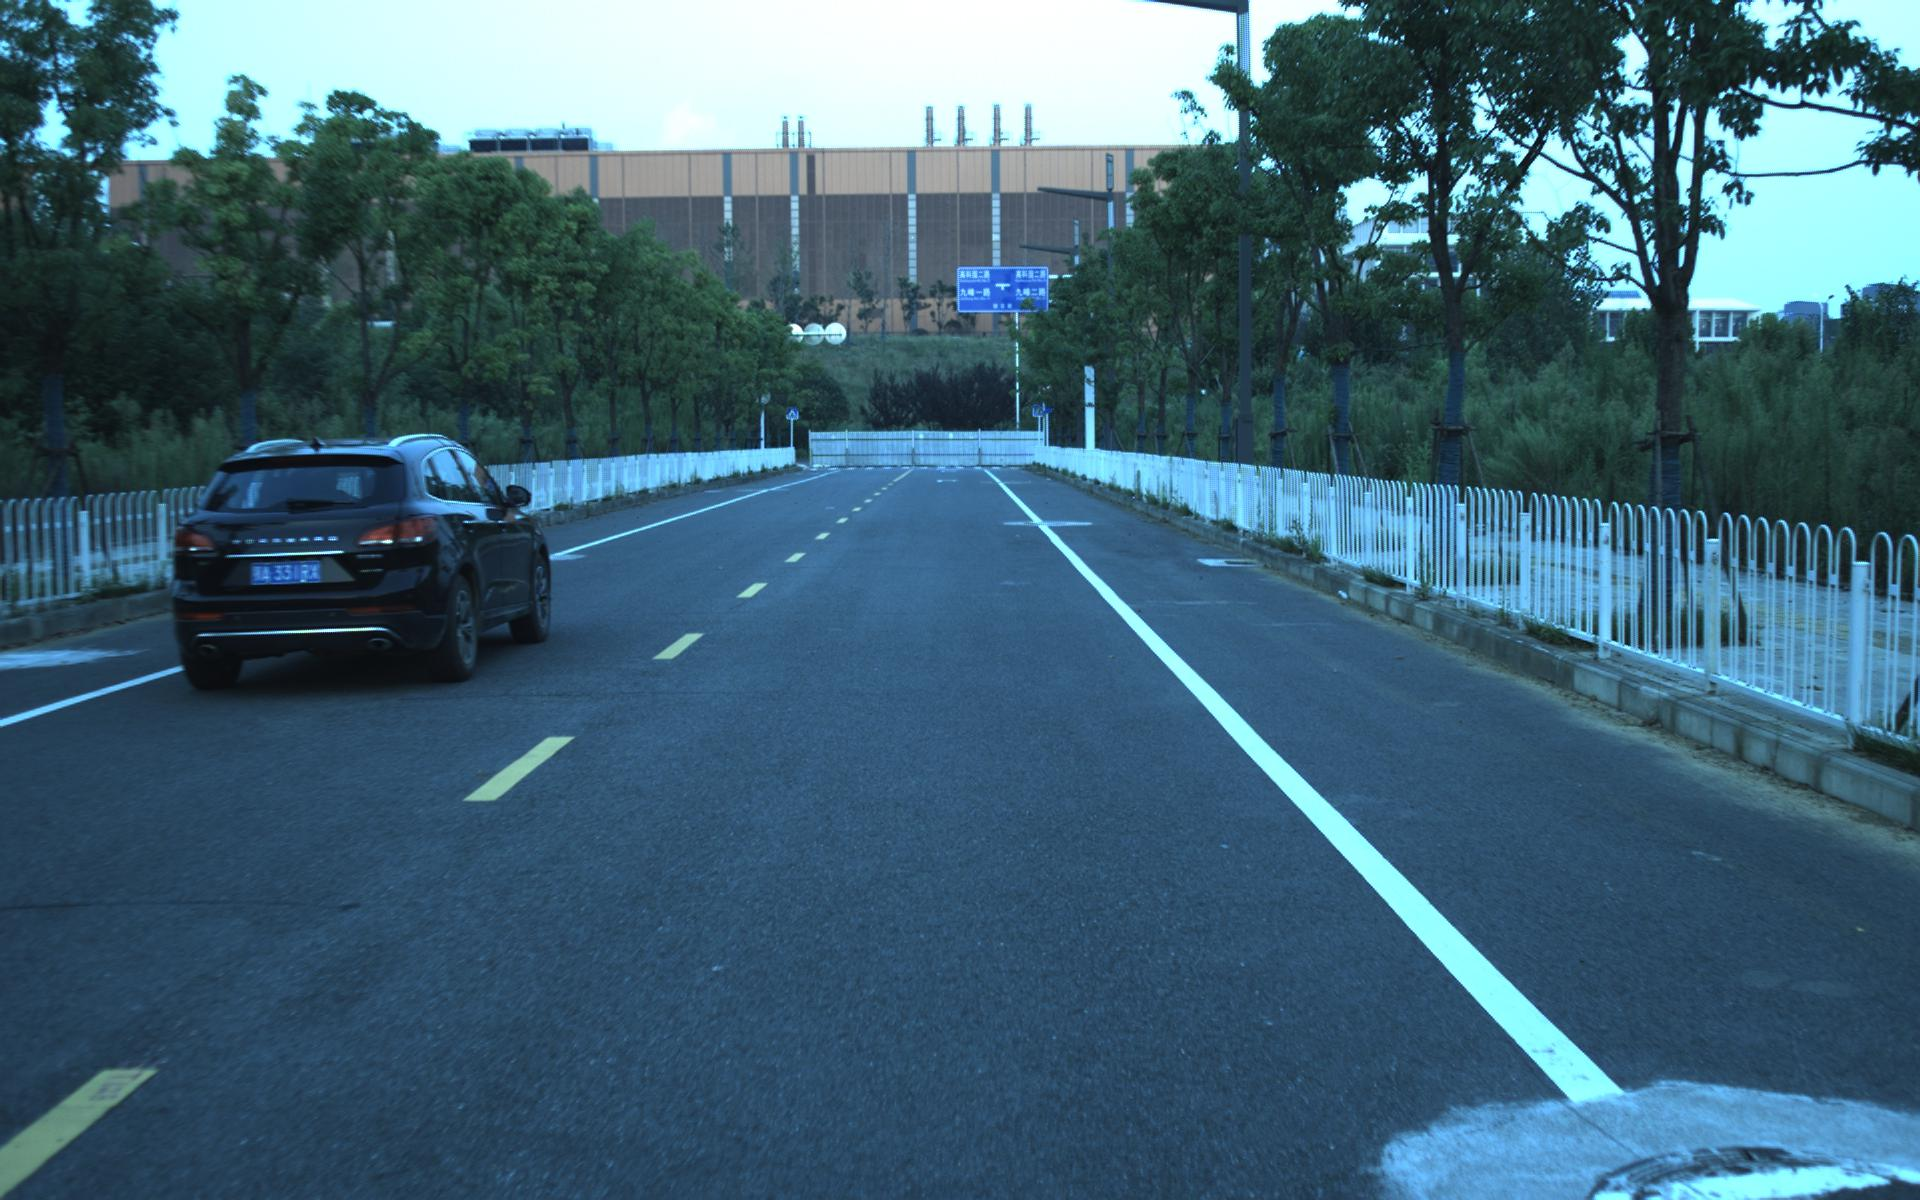Car: (152, 427, 558, 694)
